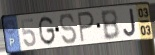5: (19, 17, 37, 48)
B: (99, 9, 121, 42)
G: (38, 15, 57, 47)
J: (122, 8, 137, 38)
P: (77, 10, 96, 44)
S: (59, 12, 79, 46)
